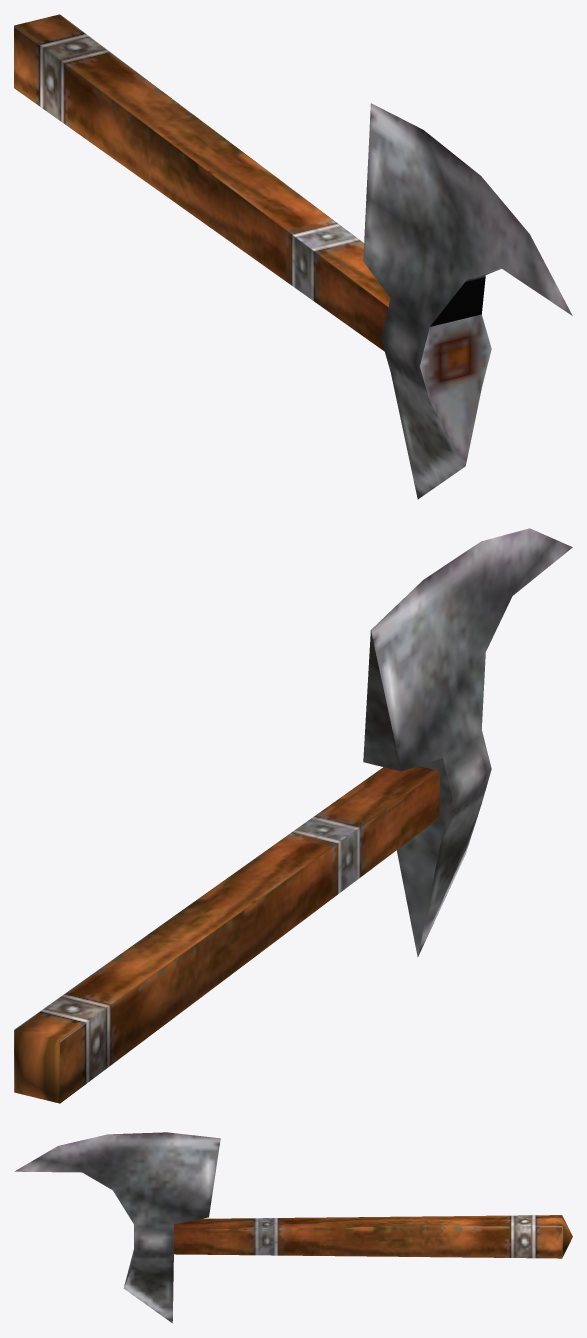
File: wp_axe1.glb
3 views of the same model, one above another, from view 1: azimuth 30°, elevation 25°; view 2: azimuth 150°, elevation 25°; view 3: azimuth 270°, elevation 25° (orthographic). The views are drawn at different scales.
Parts seen in each view (by area): view 1: wp_axe1-col; view 2: wp_axe1-col; view 3: wp_axe1-col.
Part boxes in pixels (box(x1,y1,x2,y2)): wp_axe1-col: box(14, 14, 572, 499); wp_axe1-col: box(14, 528, 572, 1103); wp_axe1-col: box(14, 1132, 572, 1323).
Size of the model in its own units: 0.06 by 0.2979 by 0.7889.
Materials: 2 (2 with a texture image).
